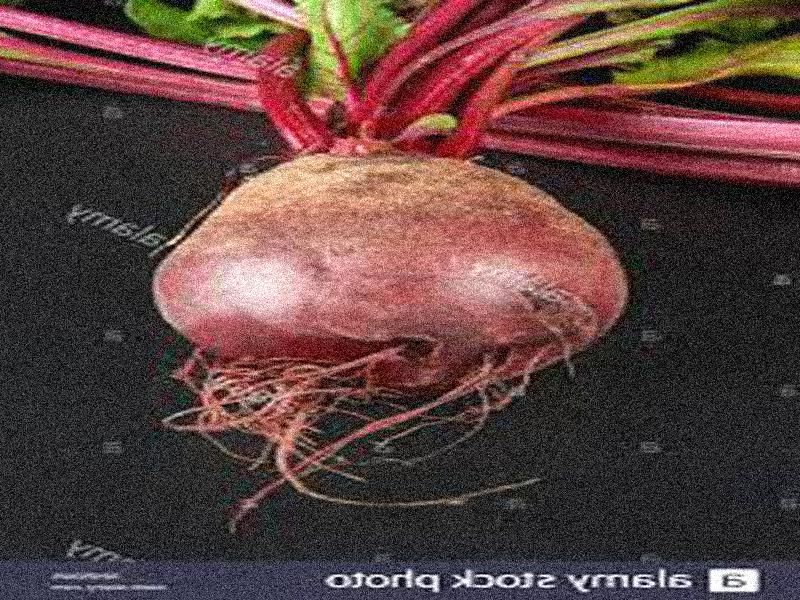Beet: (148, 2, 794, 531)
